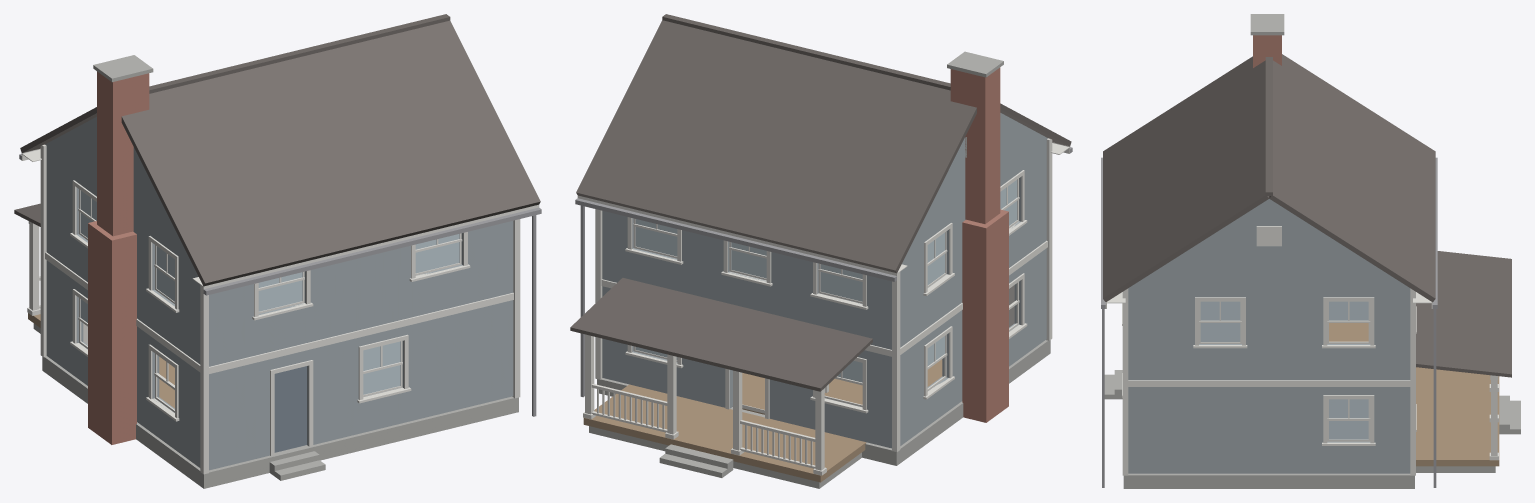
Rendered from SM_House_A.fbx.
3 renders of one model, left to right at view 1: azimuth 30°, elevation 25°; view 2: azimuth 150°, elevation 25°; view 3: azimuth 270°, elevation 25°, orthographic. The views are drawn at different scales.
Visible parts, largest first — view 1: SM_House_A, SM_House_A_Glass; view 2: SM_House_A, SM_House_A_Glass; view 3: SM_House_A, SM_House_A_Glass.
Boxes of the visible parts, <box> form: SM_House_A: <box>14,14,541,488</box>; SM_House_A_Glass: <box>80,190,459,394</box>; SM_House_A: <box>570,14,1072,488</box>; SM_House_A_Glass: <box>635,180,1017,382</box>; SM_House_A: <box>1101,14,1520,488</box>; SM_House_A_Glass: <box>1200,301,1368,439</box>.
Bounding box in the file's own units: 10.1 × 10.05 × 11.68.
